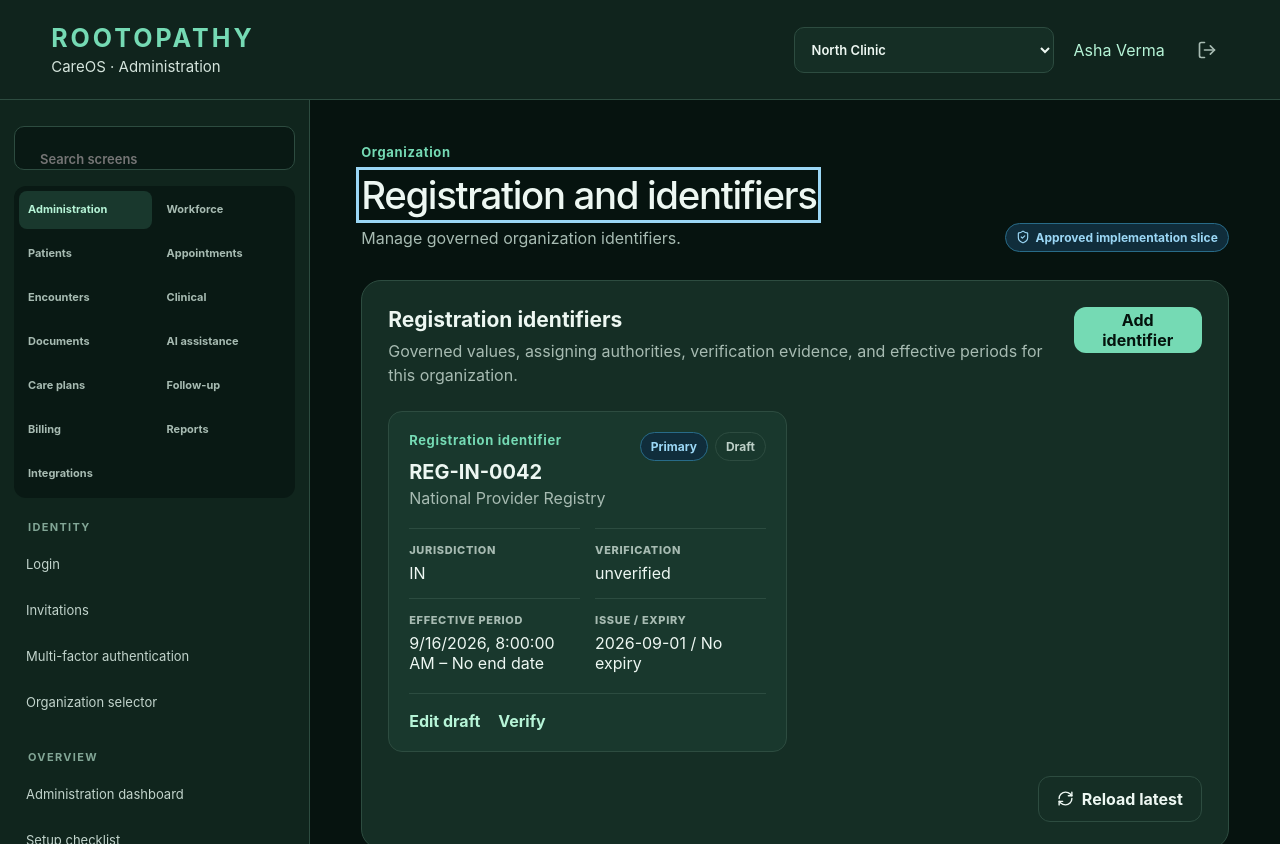
Scenario: CareOS frontend session boundary › creates an organization identifier draft through the governed API
Expected: the heading "Registration and identifiers" is shown, x1=361 y1=172 x2=816 y2=218
Expected: the heading "REG-IN-0042" is shown, x1=409 y1=460 x2=542 y2=484
Click the button "Add identifier" at [1138, 330], box x1=1074 y1=307 x2=1202 y2=353
(page scrolled)
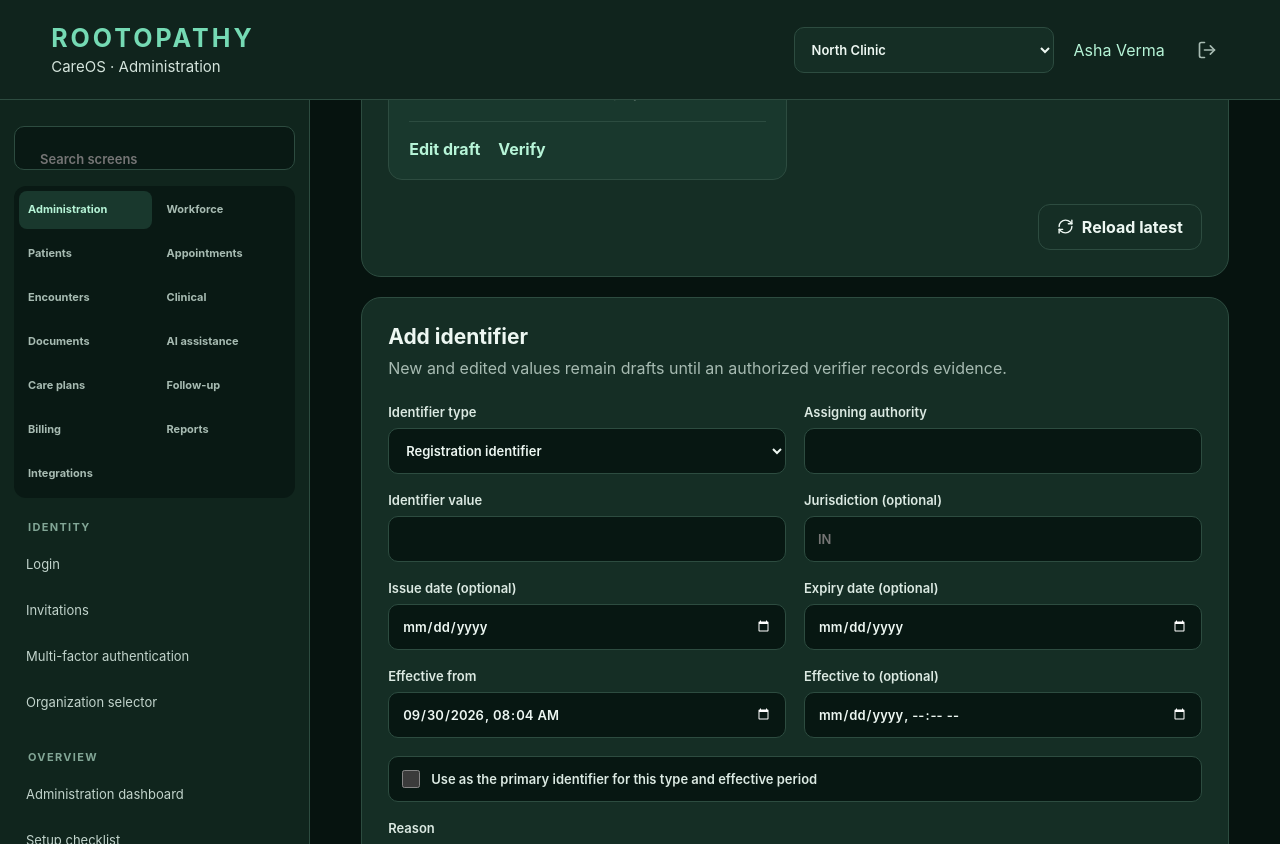
Type "State Health Registry" into the field labelled "Assigning authority" at [1003, 451], box x1=804 y1=428 x2=1202 y2=474
Type "STATE-1024" into the field labelled "Identifier value" at [587, 539], box x1=388 y1=516 x2=786 y2=562
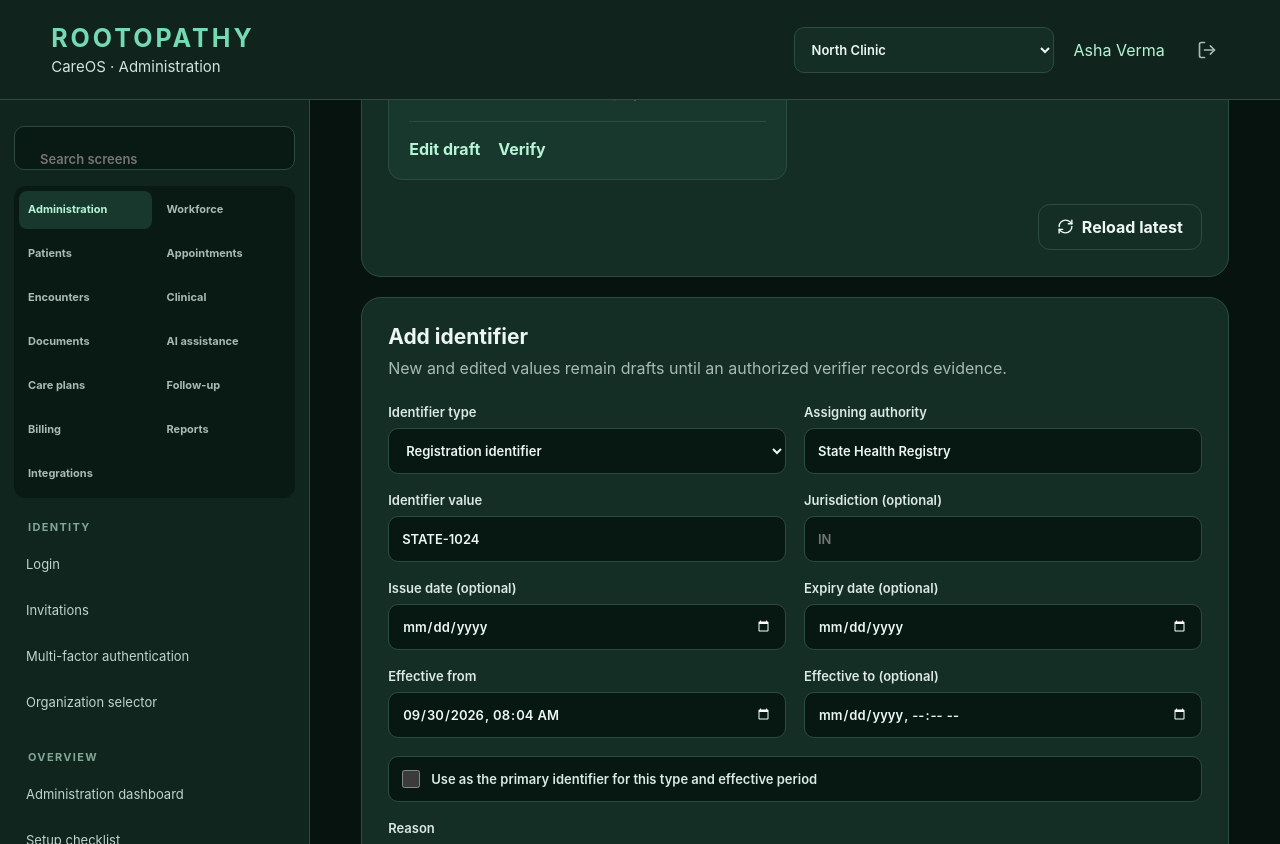
Type "in" into the field labelled "Jurisdiction (optional)" at [1003, 539], box x1=804 y1=516 x2=1202 y2=562
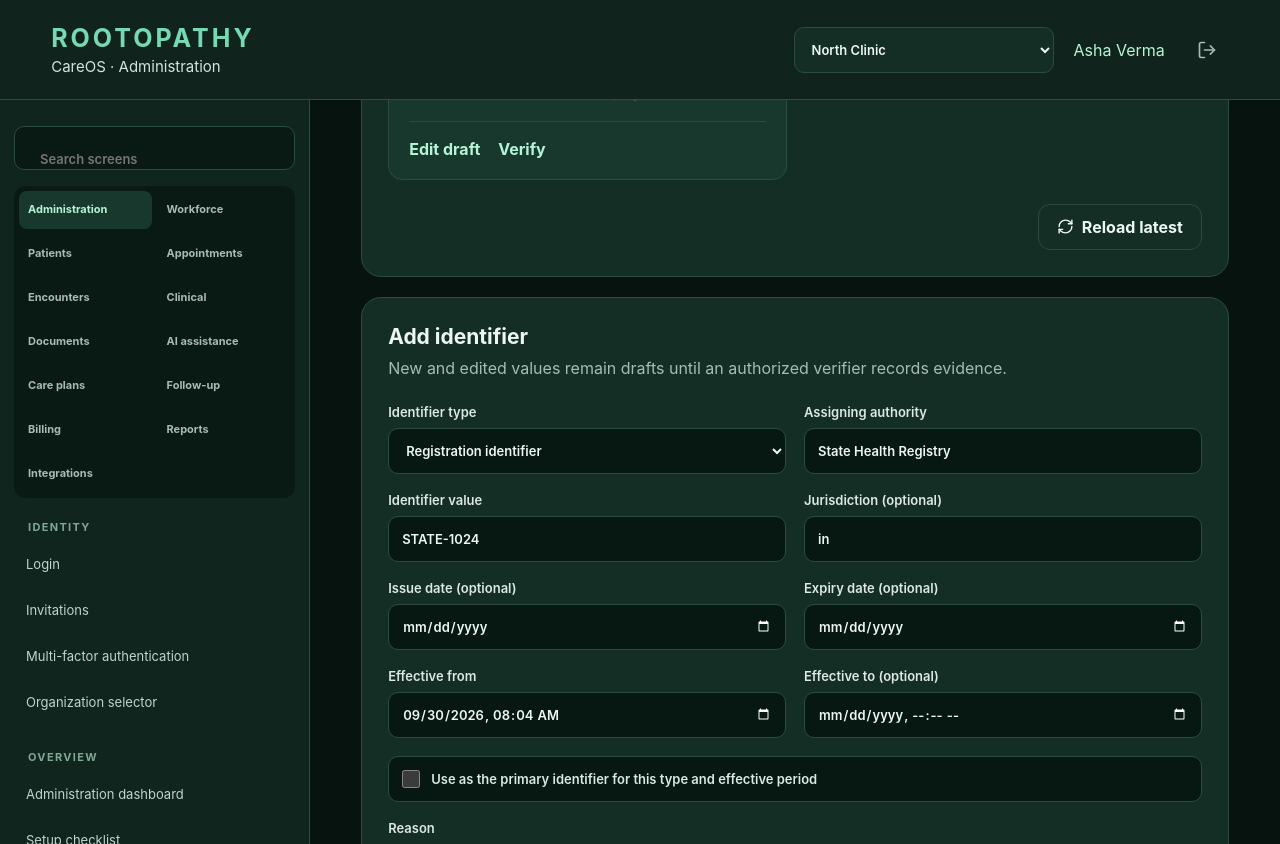
Click the checkbox labelled "Use as the primary identifier" at [411, 779], box x1=402 y1=770 x2=420 y2=788
(page scrolled)
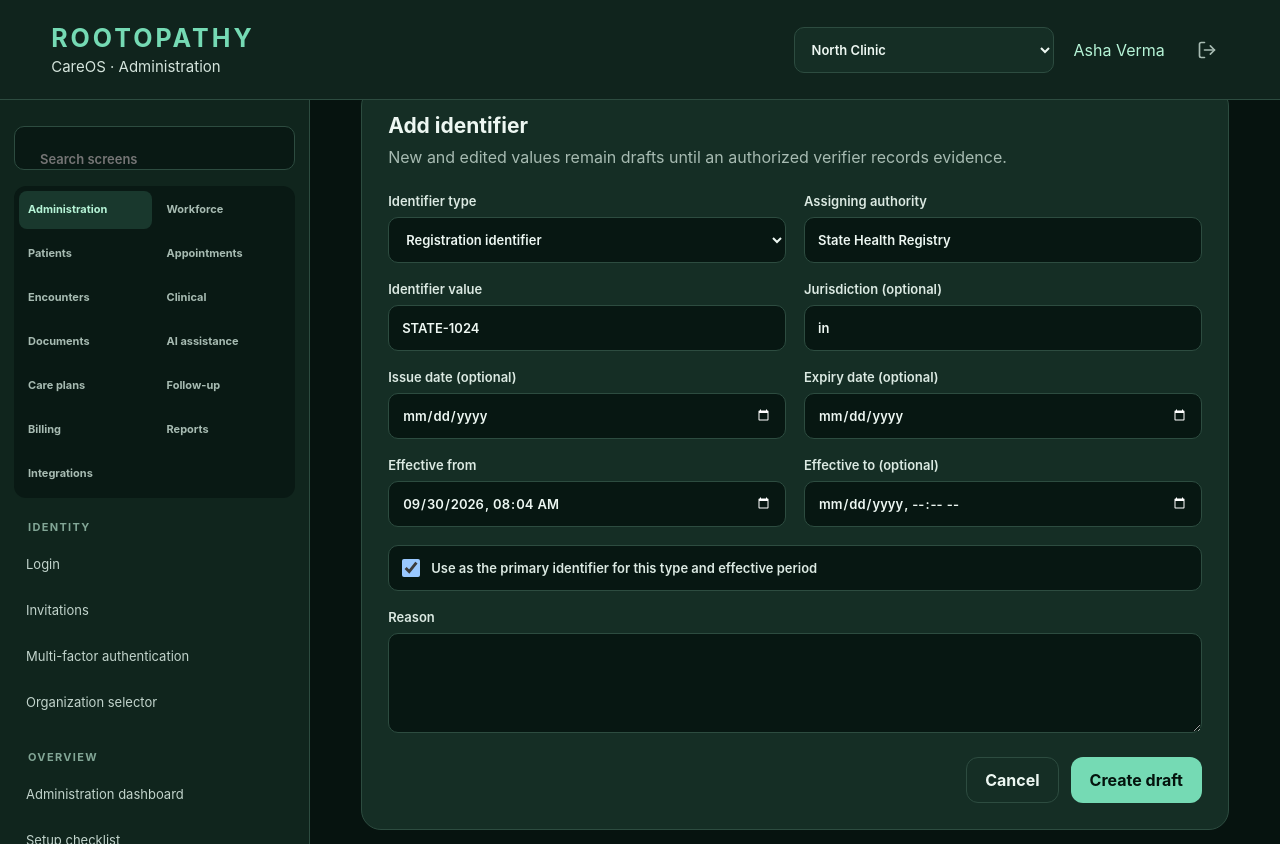
Type "Approved registration intake CARE-1024" into the text box labelled "Reason" at [795, 683], box x1=388 y1=633 x2=1202 y2=733
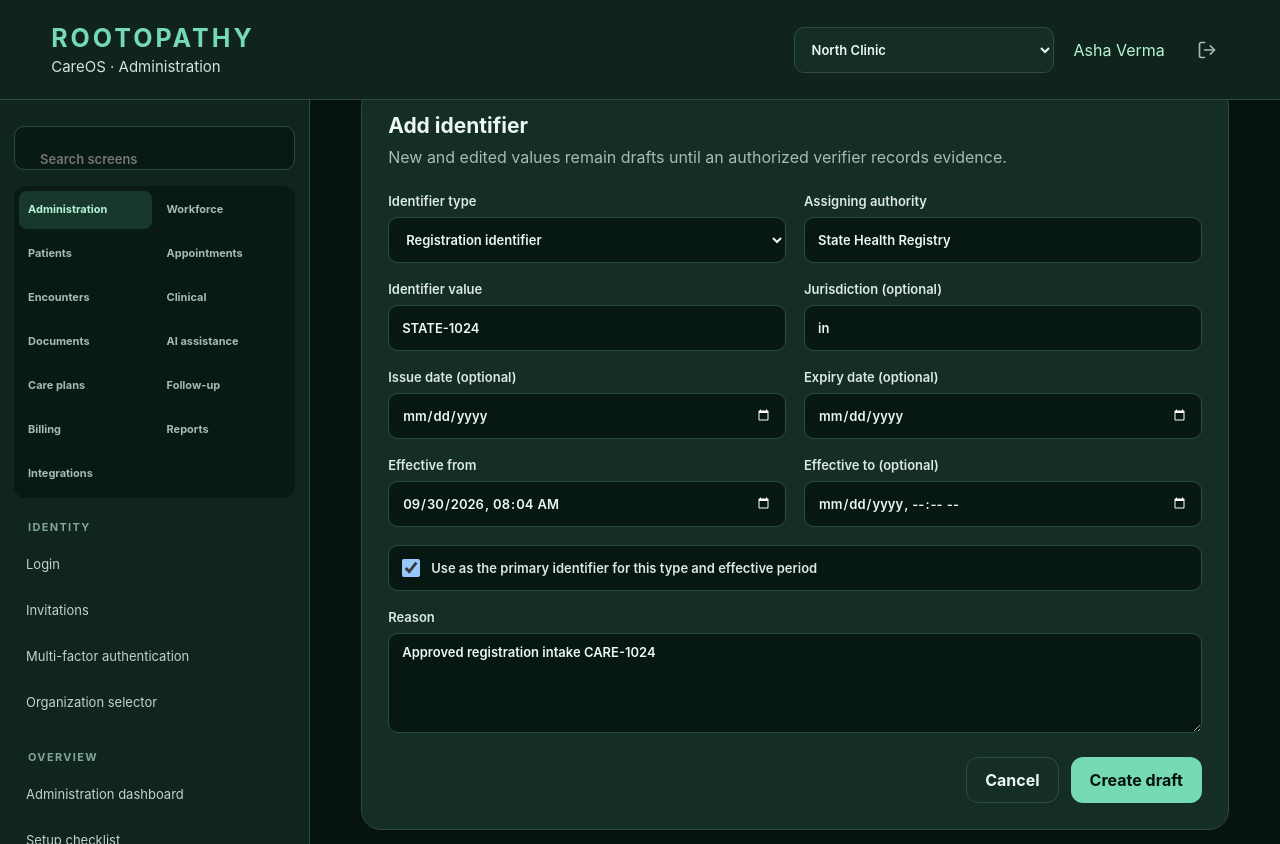
Click the button "Create draft" at [1136, 780], box x1=1071 y1=757 x2=1202 y2=803
(page scrolled)
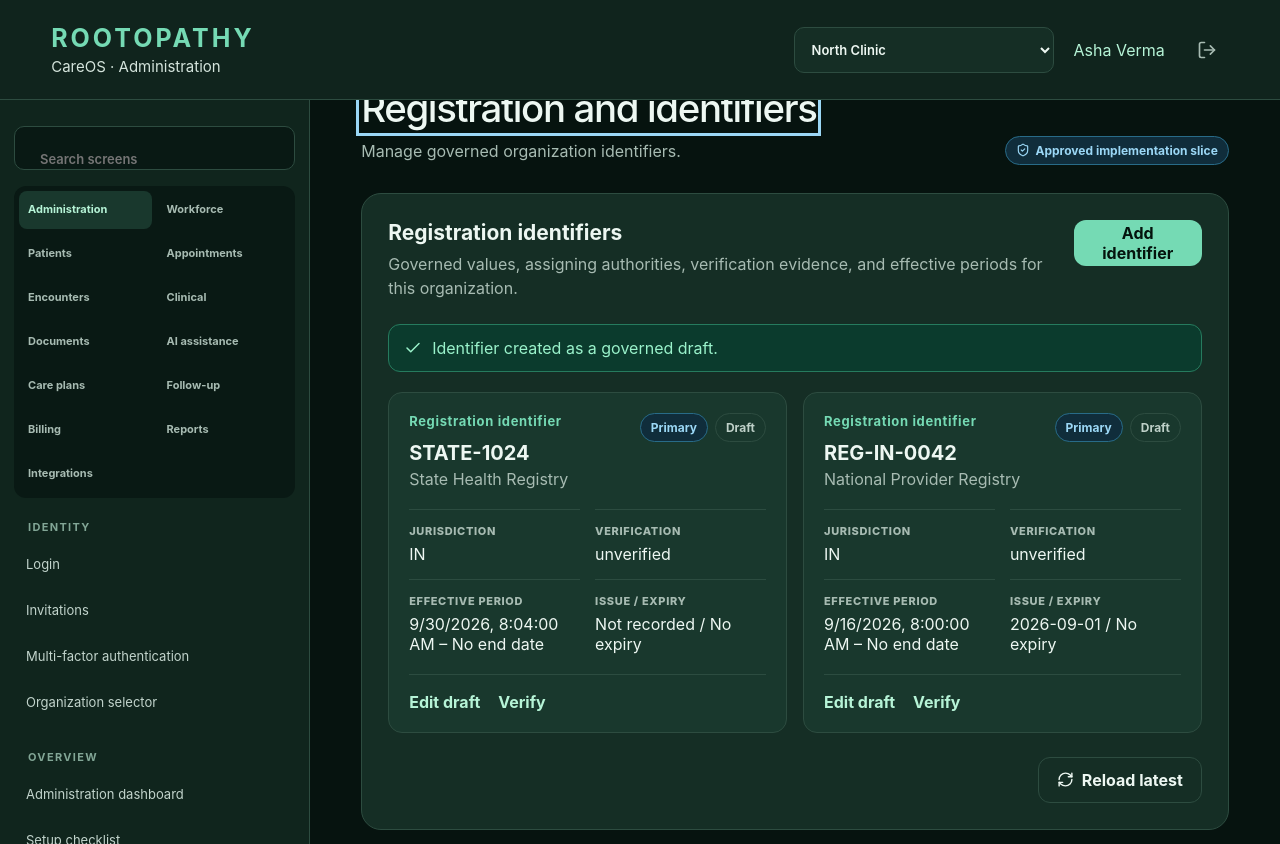
Result: the message shows "Identifier created as a governed draft" at x1=432 y1=338 x2=718 y2=358
Result: the heading "STATE-1024" is shown at x1=409 y1=441 x2=530 y2=465
